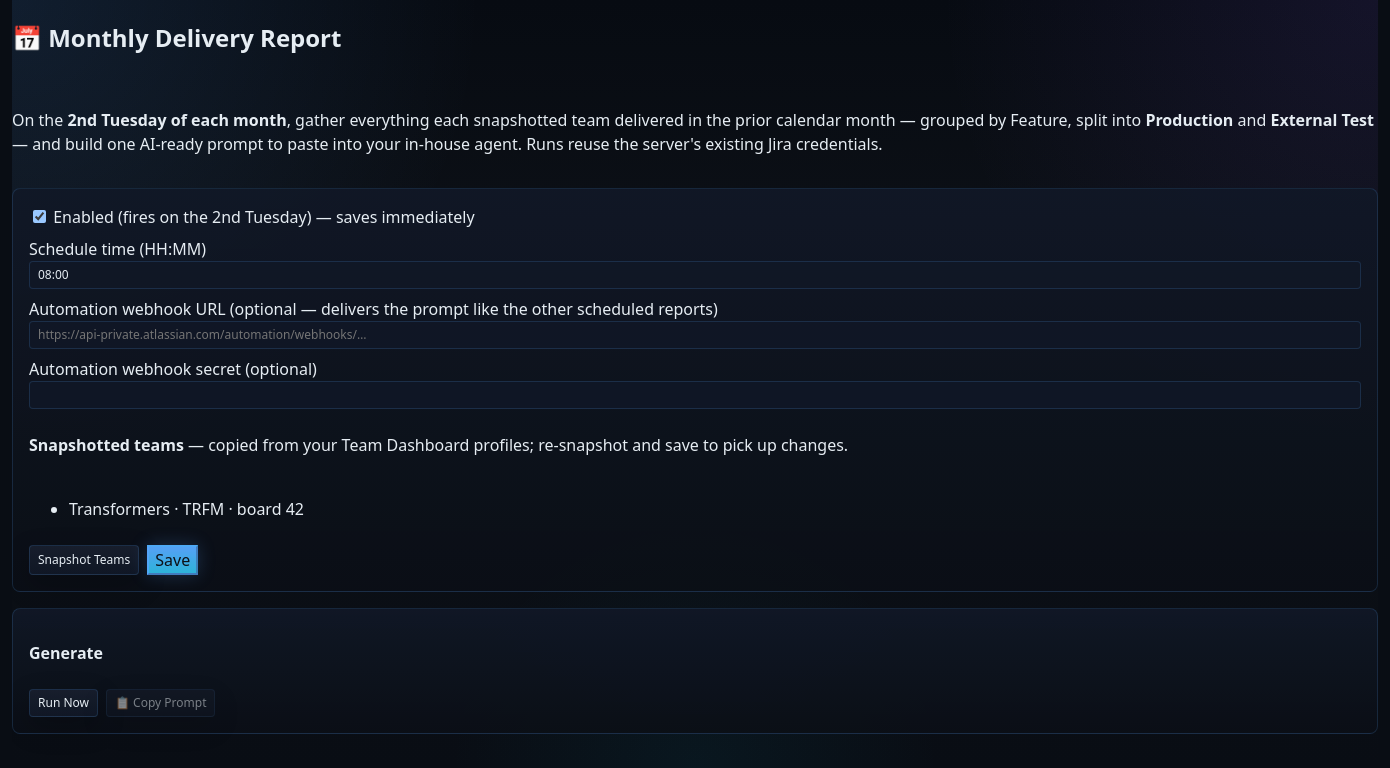
MonthlyDeliveryPanel — Run Now, last-run display, Copy Prompt (US2) › disables Run Now while there are unsaved edits and re-enables after saving
Expected: the button "Run Now" is enabled, [29,689,98,717]
Step 1. Replace the text in the field labelled "Schedule time (HH:MM)" with "09:30" → (695, 275), box [29,261,1361,289]
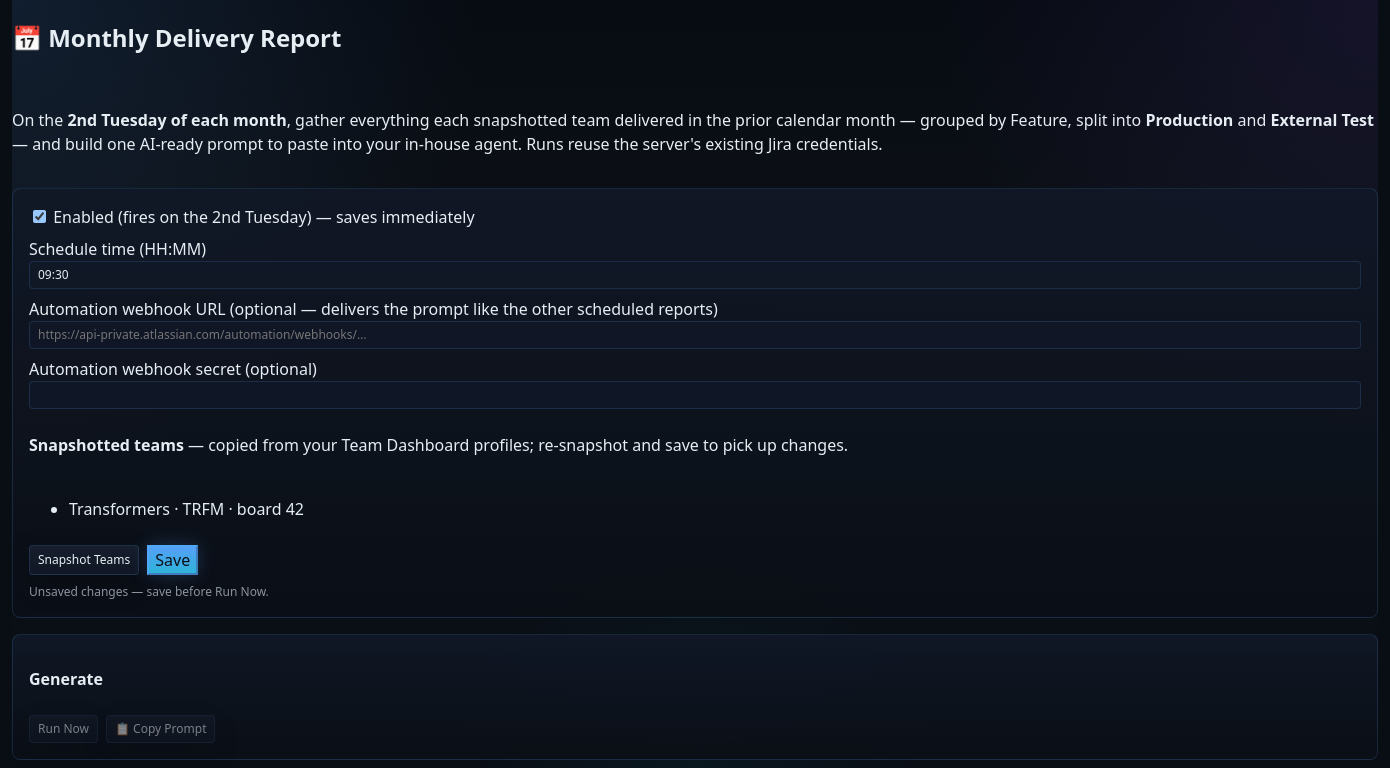
Result: the button "Run Now" is disabled at [29,715,98,743]
Step 2. Click the button "Save" → (173, 560), box [147,545,198,575]
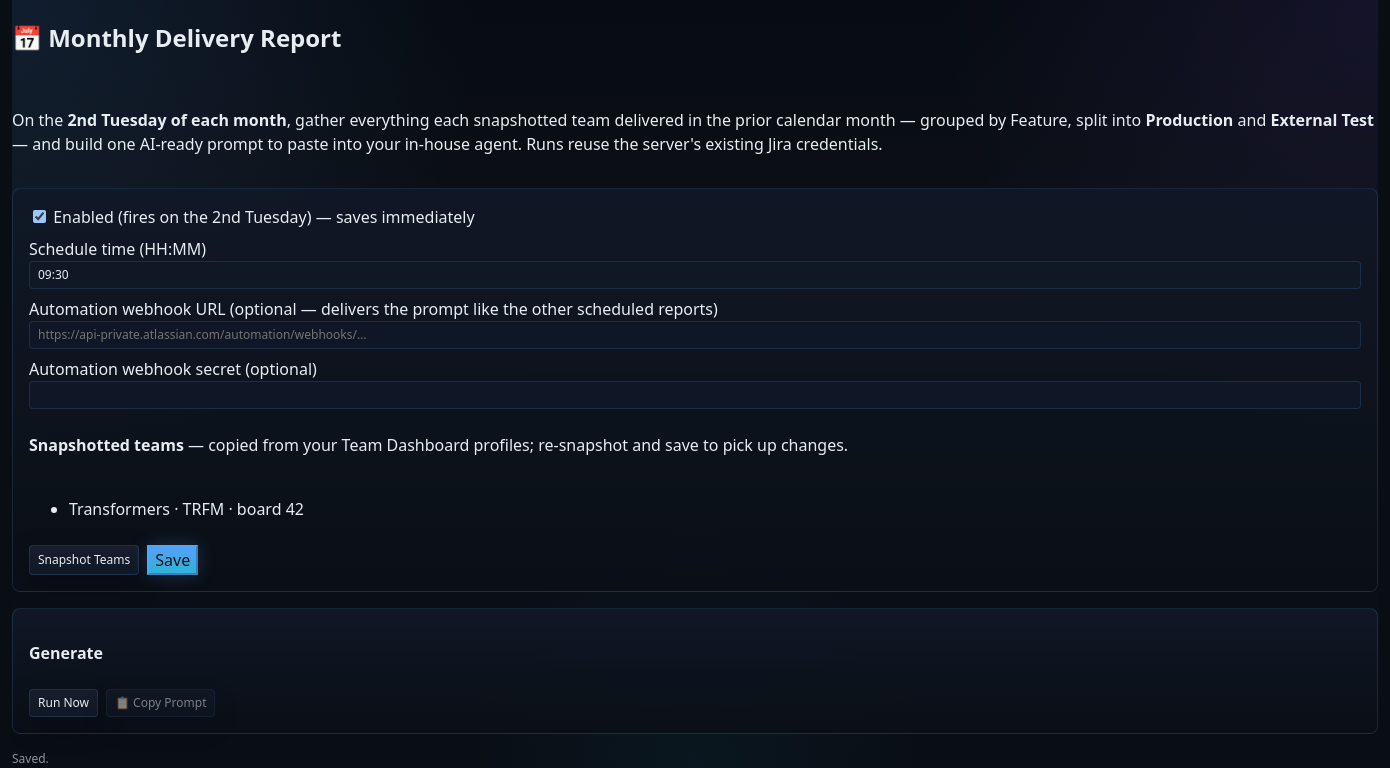
Result: the button "Run Now" is enabled at [29,689,98,717]
